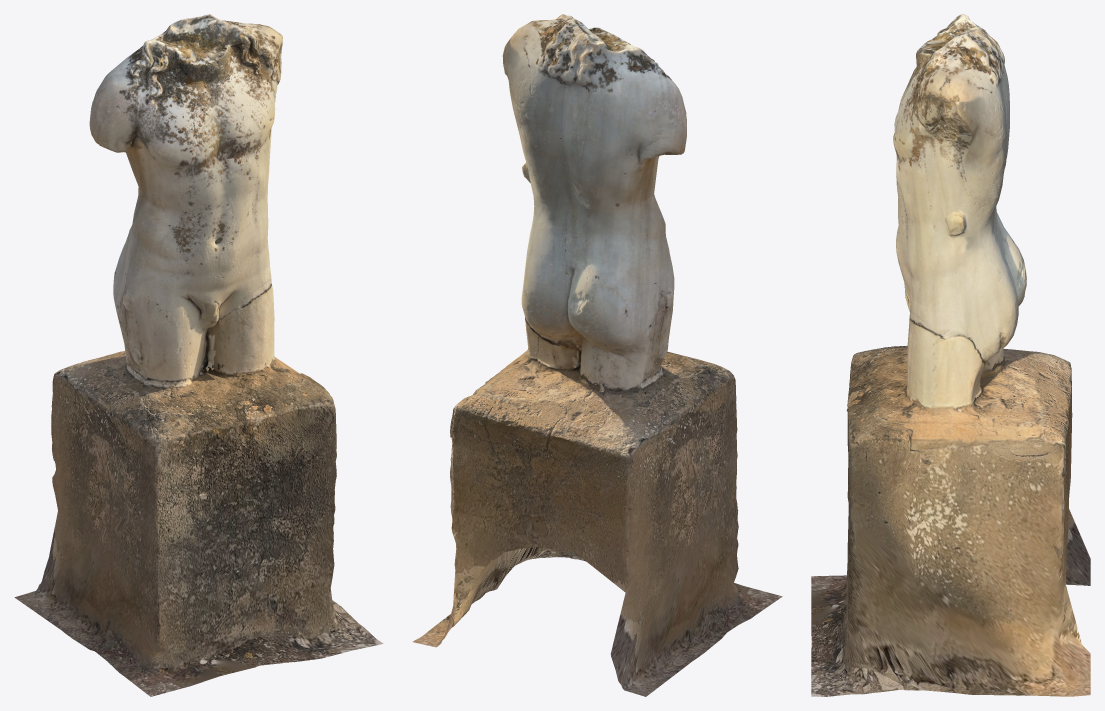
Rendered from male_torso_statue__roman_villas_of_carth_-_opt.glb.
The picture shows the model from 3 angles, left to right: view 1: azimuth 30°, elevation 25°; view 2: azimuth 150°, elevation 25°; view 3: azimuth 270°, elevation 25°; orthographic projection. The views are drawn at different scales.
Visible parts, largest first — view 1: Object_3; view 2: Object_3; view 3: Object_3.
Boxes of the visible parts, left/top/right/bottom form: Object_3: left=14, top=14, right=383, bottom=696; Object_3: left=412, top=14, right=782, bottom=696; Object_3: left=811, top=14, right=1090, bottom=696.
Size of the model in its own units: 0.6203 by 1.52 by 0.6288.
Materials: 1 (1 with a texture image).
